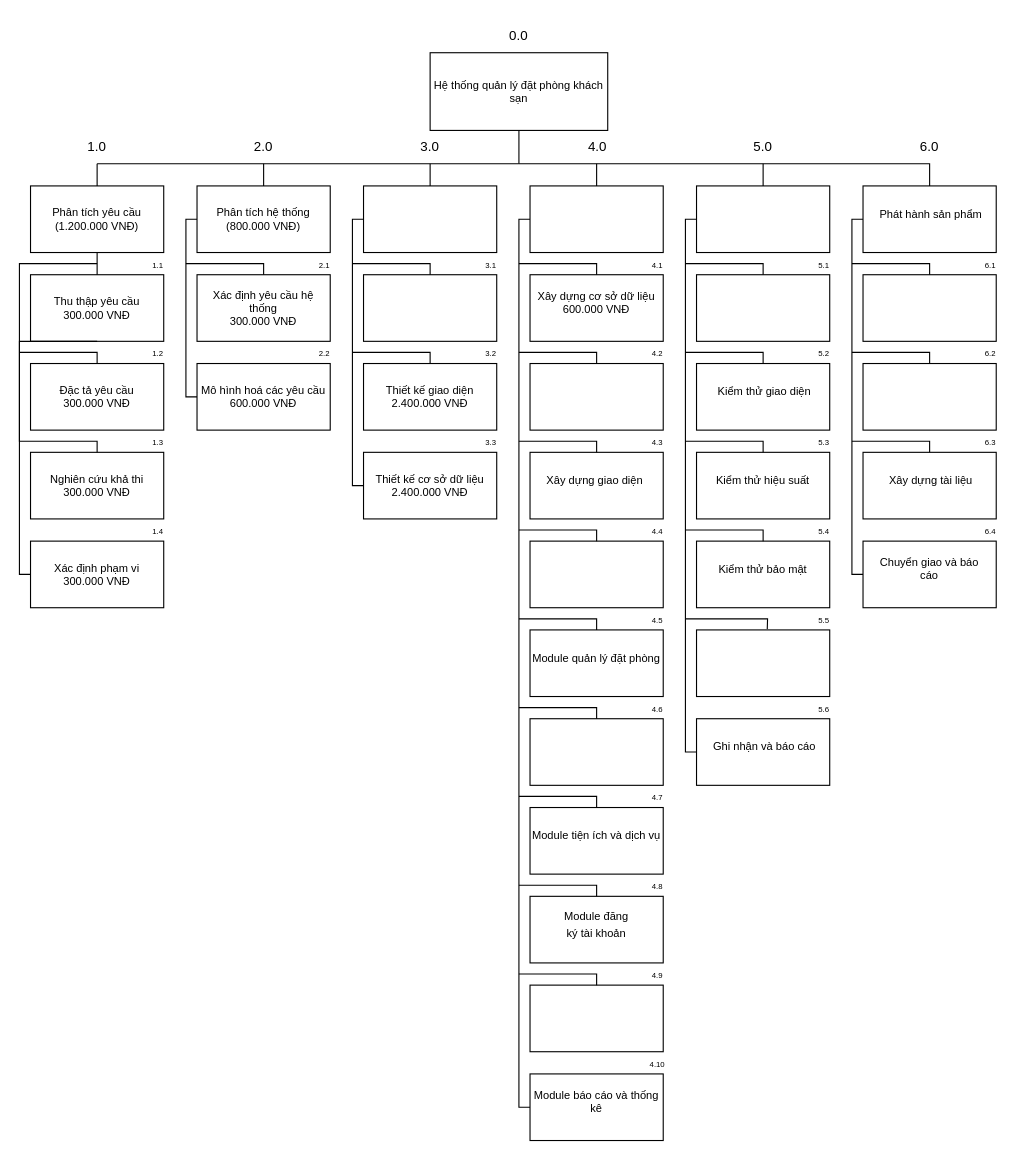
Image size: 1027x1160. Some labels were removed from this diagram. Here are the shapes that lost their labels. From the top down, the centre of each, then its label:
(429,219): Thiết kế hệ thống (6.000.000 VNĐ)
(596,219): Cài đặt hệ thống
(762,219): Kiểm thử hệ thống
(429,307): Thiết kế kiến trúc 1.200.000 VNĐ
(762,307): Kiểm thử chức năng
(929,307): Đóng gói và triển khai
(596,396): Xây dựng giao diện chính
(929,396): Kiểm thử và chấp nhận
(596,574): Module đặt phòng trực tuyến
(762,663): Bảo trì
(596,751): Module quản lý thông tin cá nhân
(596,1018): Module hỗ trợ khách hàng
